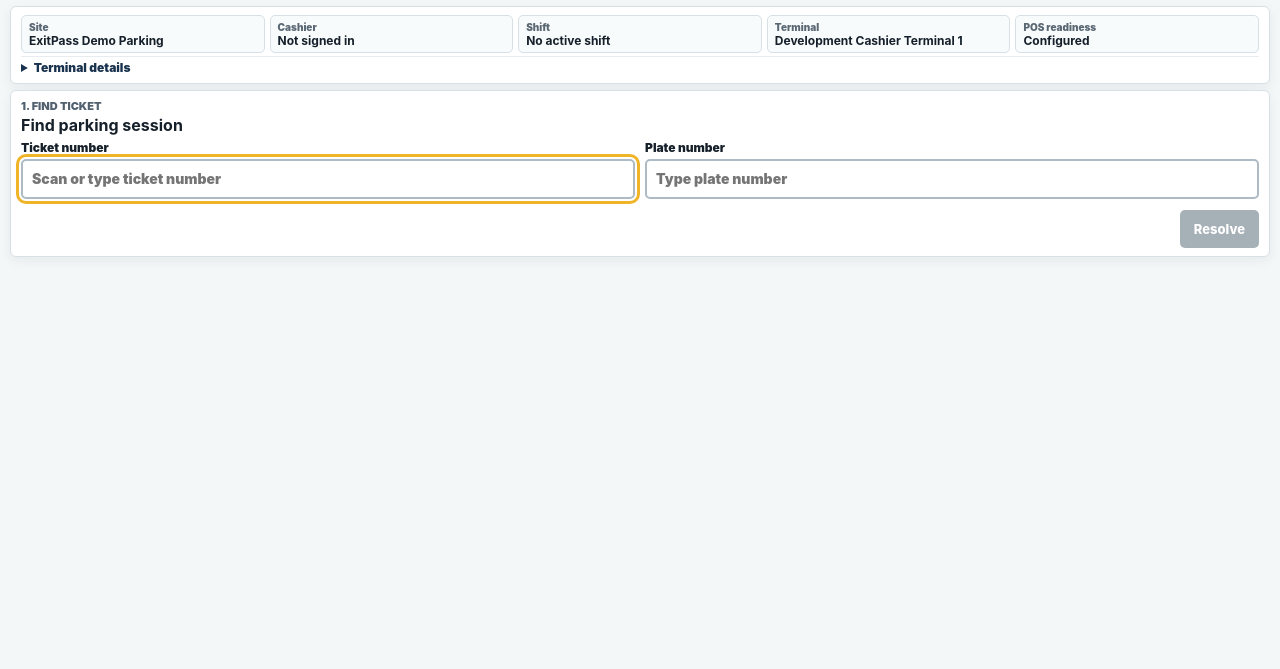
App cashier workflow › resolves a ticket and shows only the approved cashier summary
Type "APT-ACTIVE-1001" into the field labelled "Ticket number".
click(328, 179); type("APT-ACTIVE-1001")  # box [21,159,635,199]
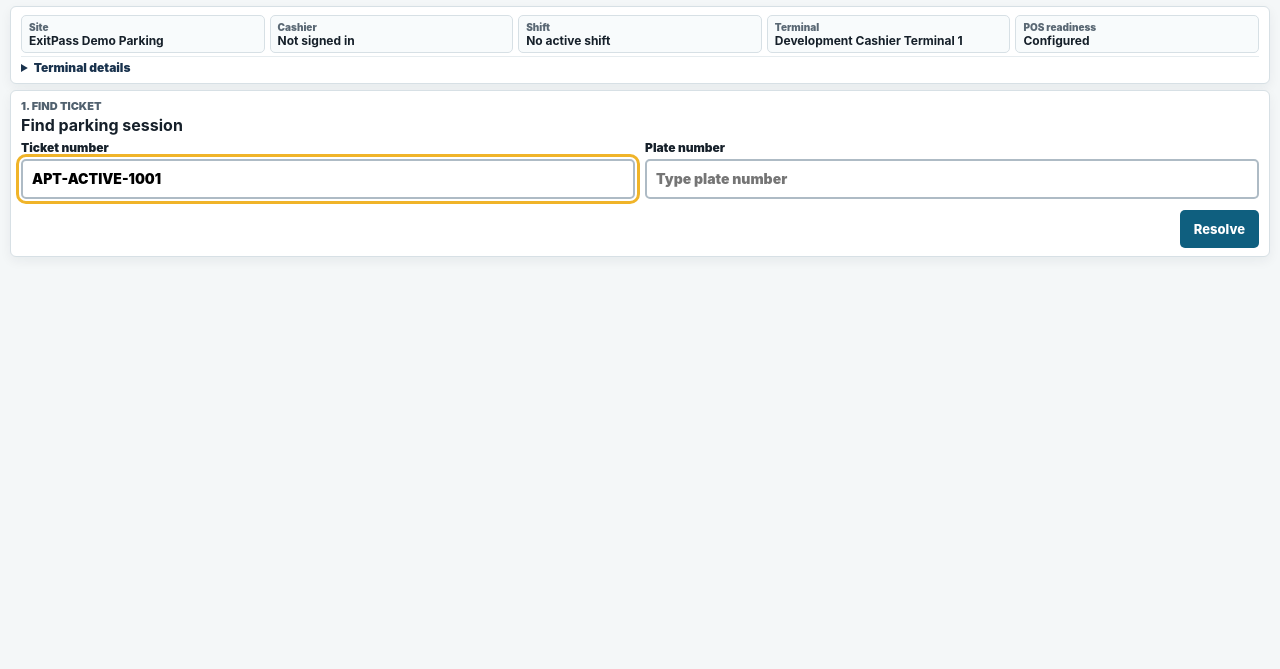
Click the button "Resolve".
click(1219, 229)  # box [1180,210,1259,248]
(page scrolled)
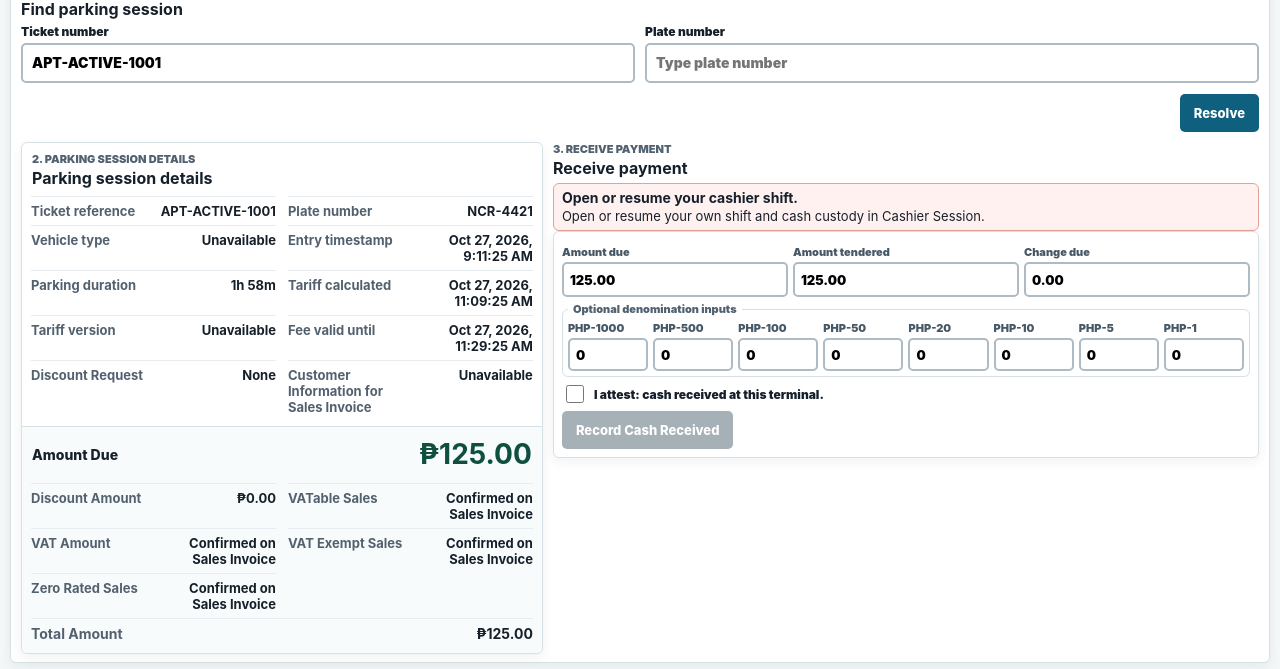
Now the heading "Parking session details" is shown, box [32,168,212,188]
Now the text with test id "payable-basis-amount" shows "125.00", box [419,437,532,471]
Now the text "Discount Request" is shown, box [31,367,143,383]
